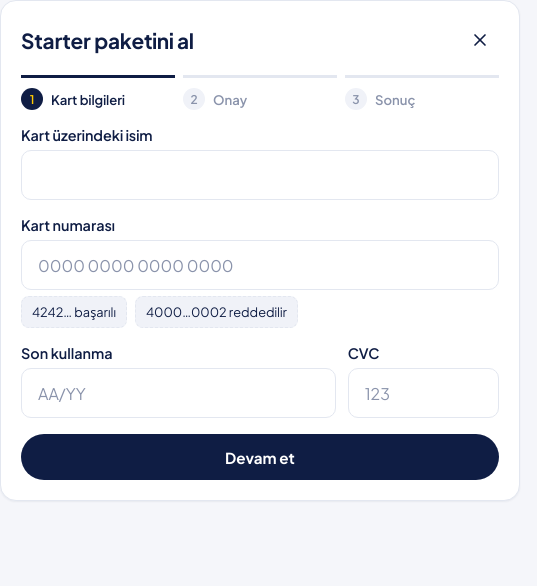
Test: PaymentFlow (case 12.2: kart formu → onay → sonuç) › geçersiz kartta onay adımına geçmez
What coordinates should you click on to do the following:
click the button "Devam et"
I would click on:
 (260, 457)
Its box is [21,434,499,480].
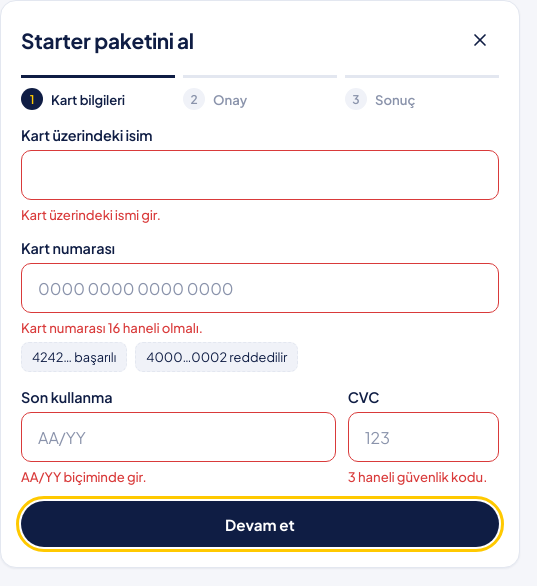
Expected: the text "Kart numarası 16 haneli olmalı." is shown, [21,319,203,336]
